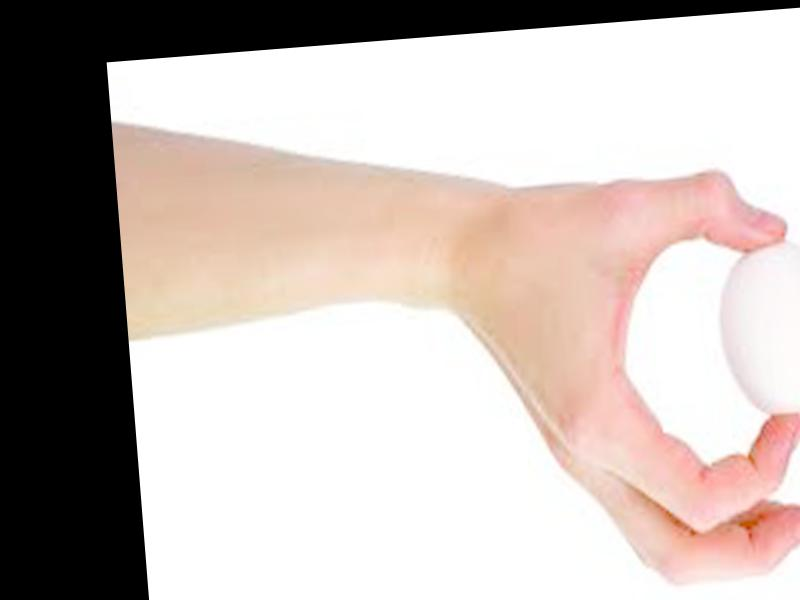Eggs: (714, 238, 800, 420)
